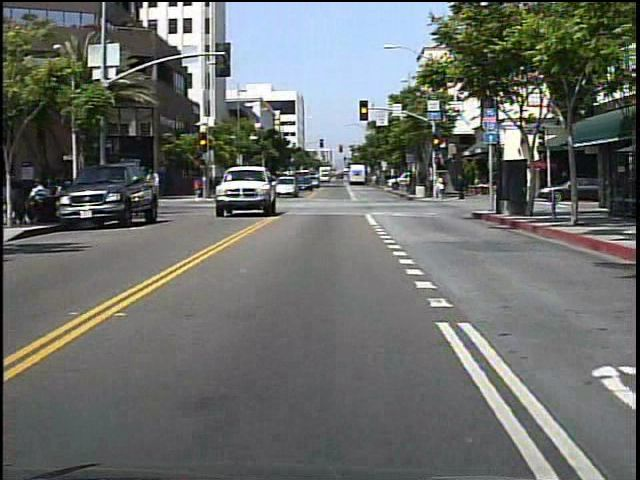person: (143, 167, 165, 205), (454, 172, 468, 204), (194, 175, 206, 199), (436, 175, 446, 199)
